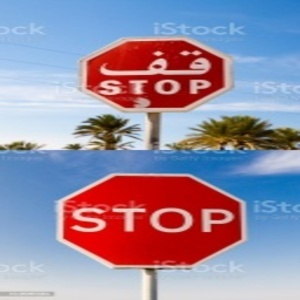stop: (57, 172, 248, 268), (81, 38, 233, 110)
